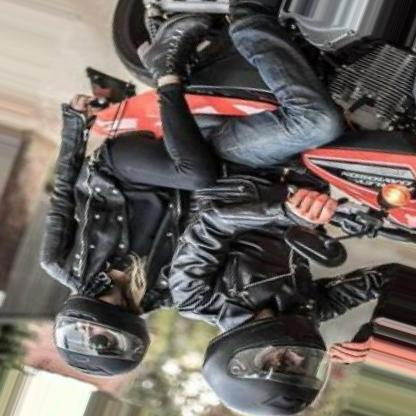with helmet: (202, 307, 330, 416), (54, 294, 152, 380)
